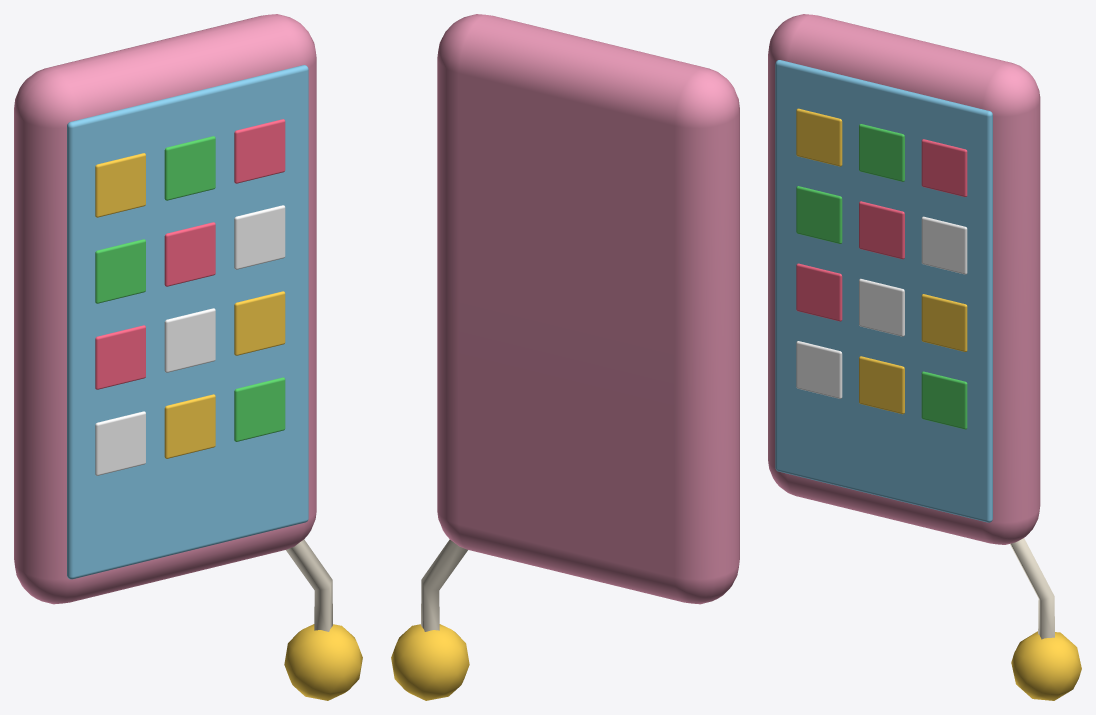
The model's file is style_phone.glb.
3 views of the same model, side by side, from view 1: azimuth 30°, elevation 25°; view 2: azimuth 150°, elevation 25°; view 3: azimuth 330°, elevation 25° (orthographic). The views are drawn at different scales.
Parts seen in each view (by area): view 1: style_phone_glow, style_phone_main; view 2: style_phone_main; view 3: style_phone_glow, style_phone_main.
Part boxes in pixels (left/top/right/bottom): style_phone_glow: left=67, top=65, right=308, bottom=579; style_phone_main: left=14, top=14, right=362, bottom=700; style_phone_main: left=391, top=14, right=739, bottom=700; style_phone_glow: left=775, top=60, right=992, bottom=522; style_phone_main: left=768, top=14, right=1081, bottom=700.
Size of the model in its own units: 0.1065 by 0.209 by 0.0262.
